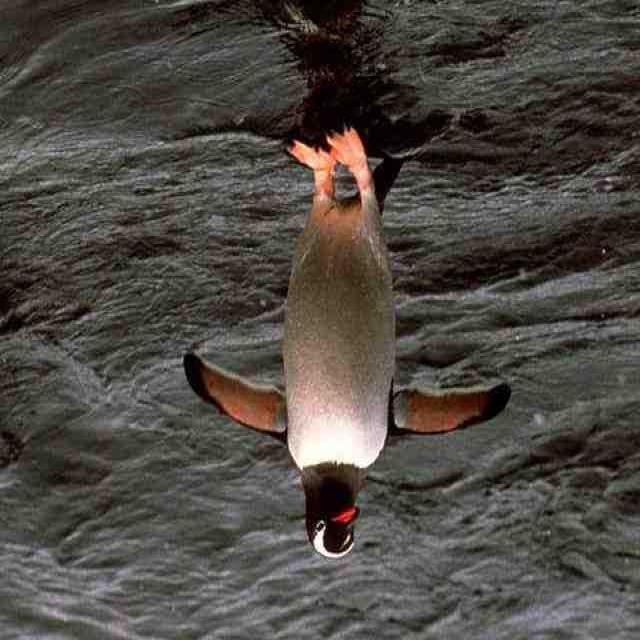penguin: (183, 123, 511, 557)
